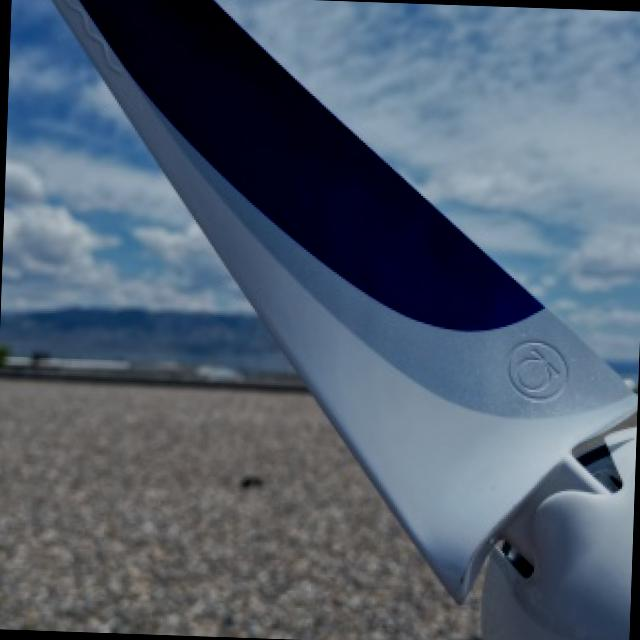healthy: (0, 471, 352, 634)
